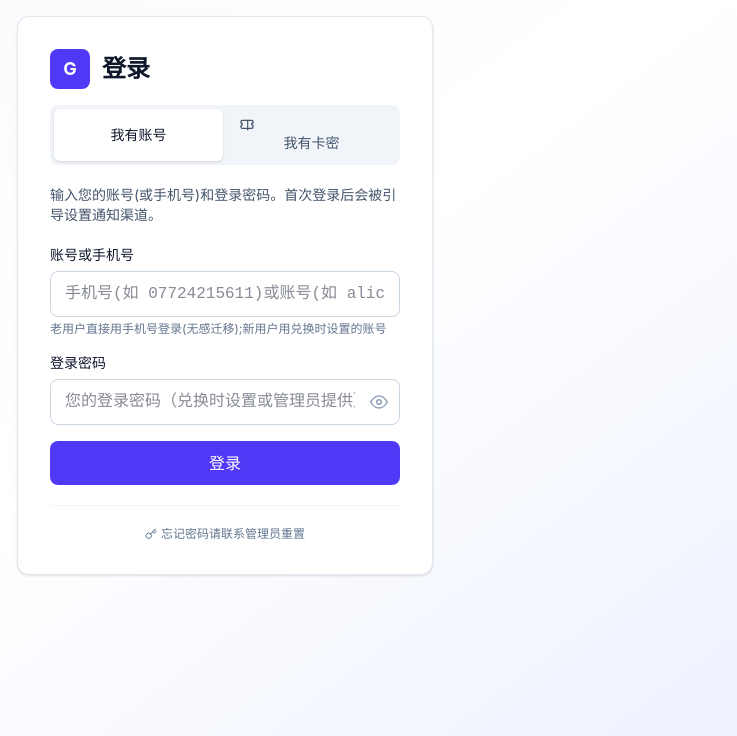
<LoginPage /> › 切 tab 清除已有的错误信息
The image size is (737, 736).
In the field with placeholder "手机号(如 07724215611)或账号(如 alice_2024)": x=225, y=294 [50,271,400,317], type "alice_2024"
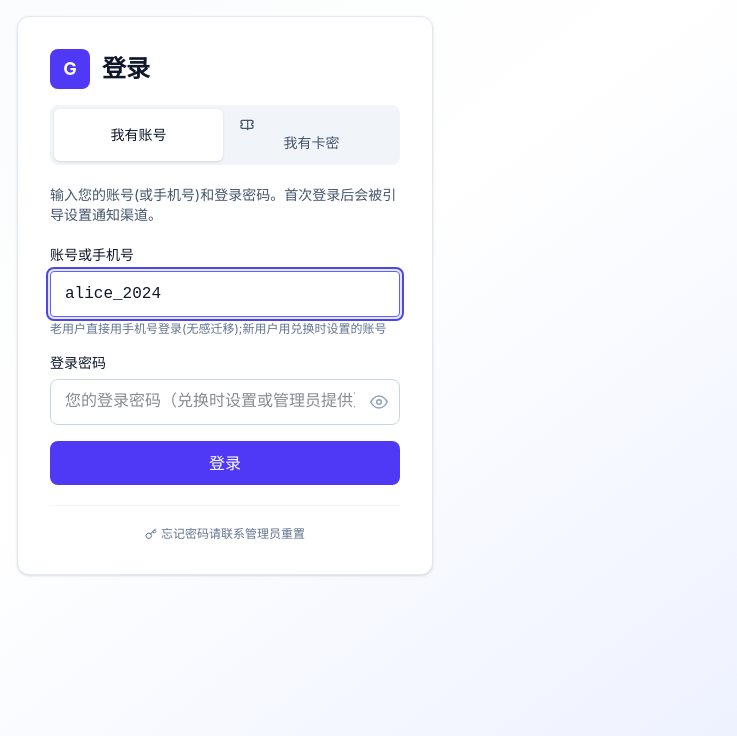
In the password field with placeholder "您的登录密码（兑换时设置或管理员提供）": x=225, y=402 [50,379,400,425], type "wrong"
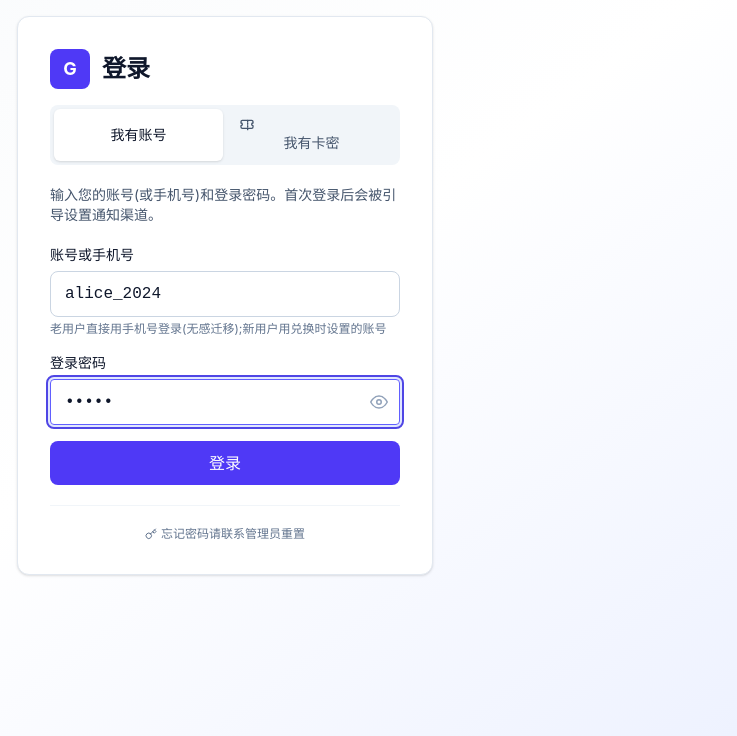
Click the button "登录": x=225, y=463 [50,441,400,485]
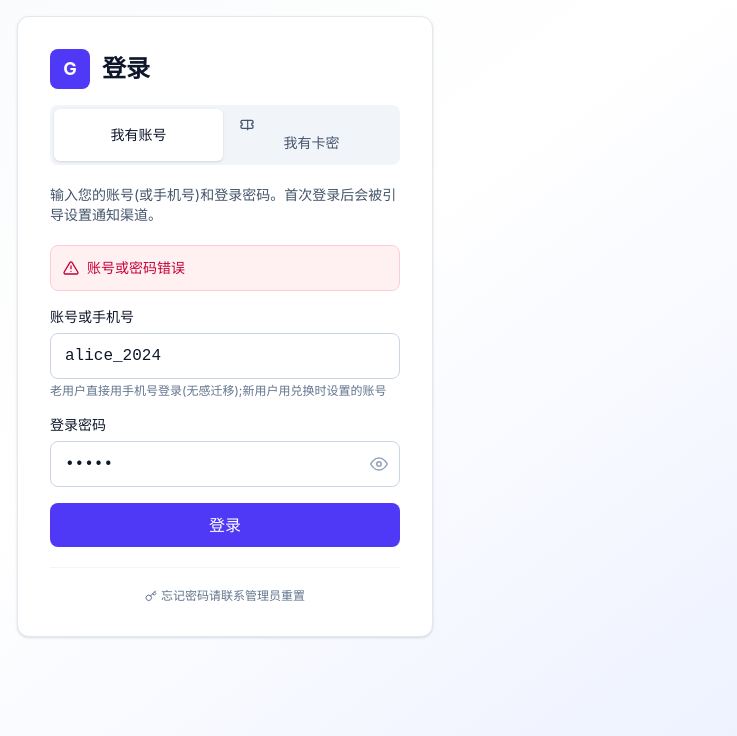
Expected: the text "账号或密码错误" is shown, [87,258,185,278]
Click the tab "我有卡密": x=312, y=135 [227,109,396,161]
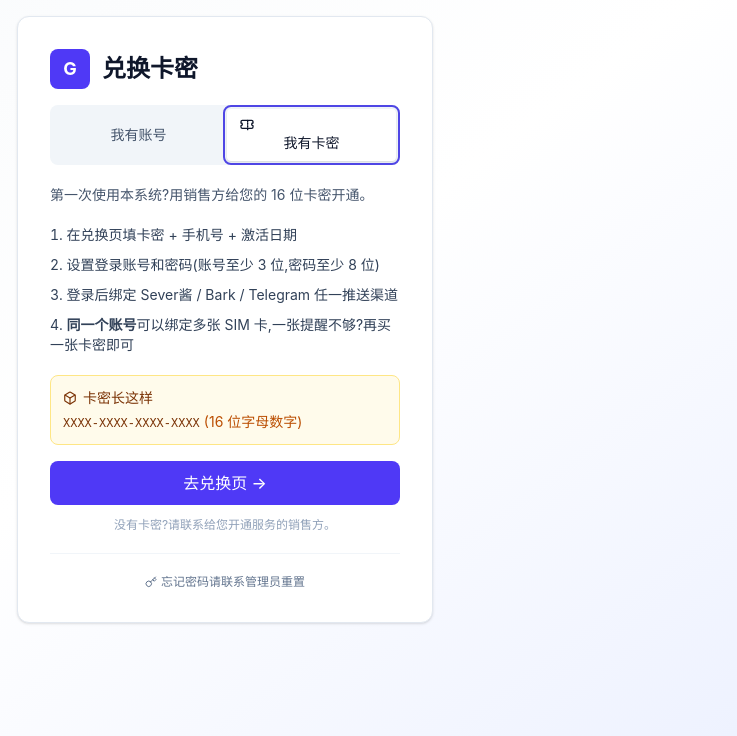
Expected: the text "账号或密码错误" is gone
